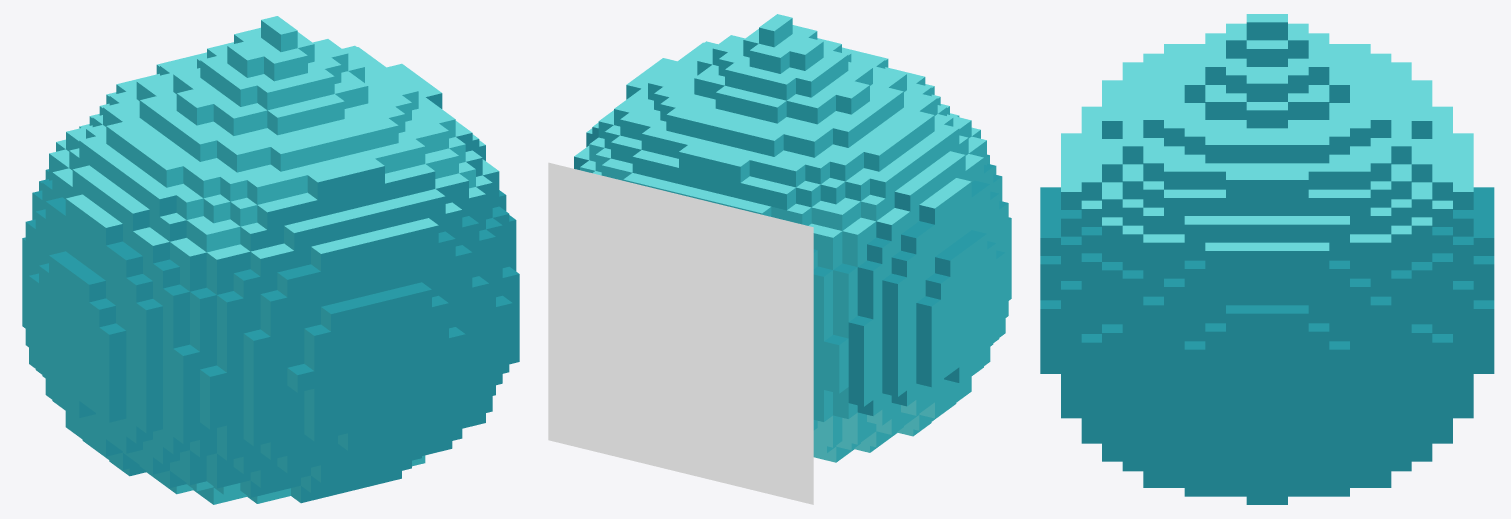
File: slime_hydro.glb
The picture shows the model from 3 angles, left to right: view 1: azimuth 30°, elevation 25°; view 2: azimuth 150°, elevation 25°; view 3: azimuth 270°, elevation 25°; orthographic projection. The views are drawn at different scales.
Parts seen in each view (by area): view 1: Shell; view 2: Shell, Face; view 3: Shell.
Boxes of the visible parts, x1=… form: Shell: x1=22, y1=16, x2=519, y2=504; Shell: x1=574, y1=14, x2=1011, y2=462; Face: x1=548, y1=162, x2=813, y2=504; Shell: x1=1040, y1=14, x2=1494, y2=504.
Bounding box in the file's own units: 1.2 × 1.15 × 1.15.
